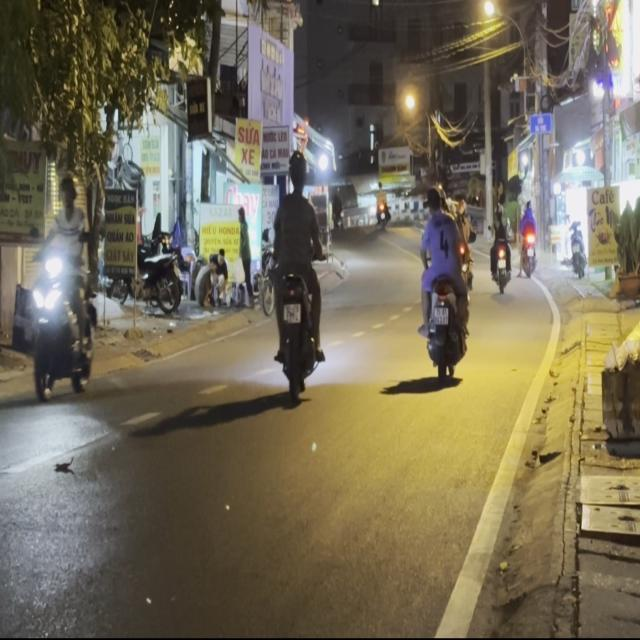helmet: (57, 170, 79, 209)
licenseplate: (29, 168, 102, 404), (268, 150, 326, 396), (415, 179, 471, 383)
motorcyclist: (285, 151, 306, 192)
nohelmet: (284, 302, 300, 322), (432, 306, 448, 324)
